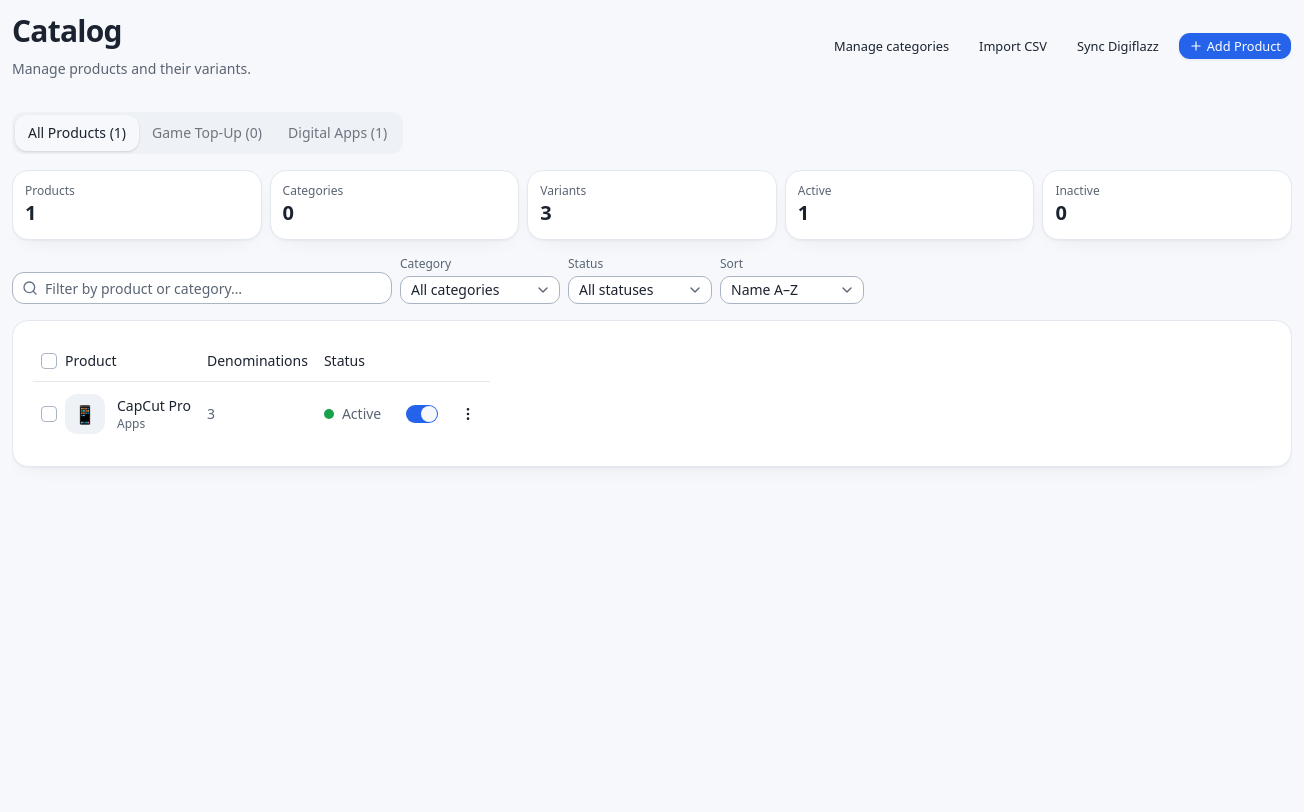
CatalogPage › archives a product from the row's actions menu; it drops out of the default view
Expected: the text "CapCut Pro" is shown, [117,396,191,416]
Click the button named "actions for capcut pro".
click(468, 414)  # box [454,400,482,428]
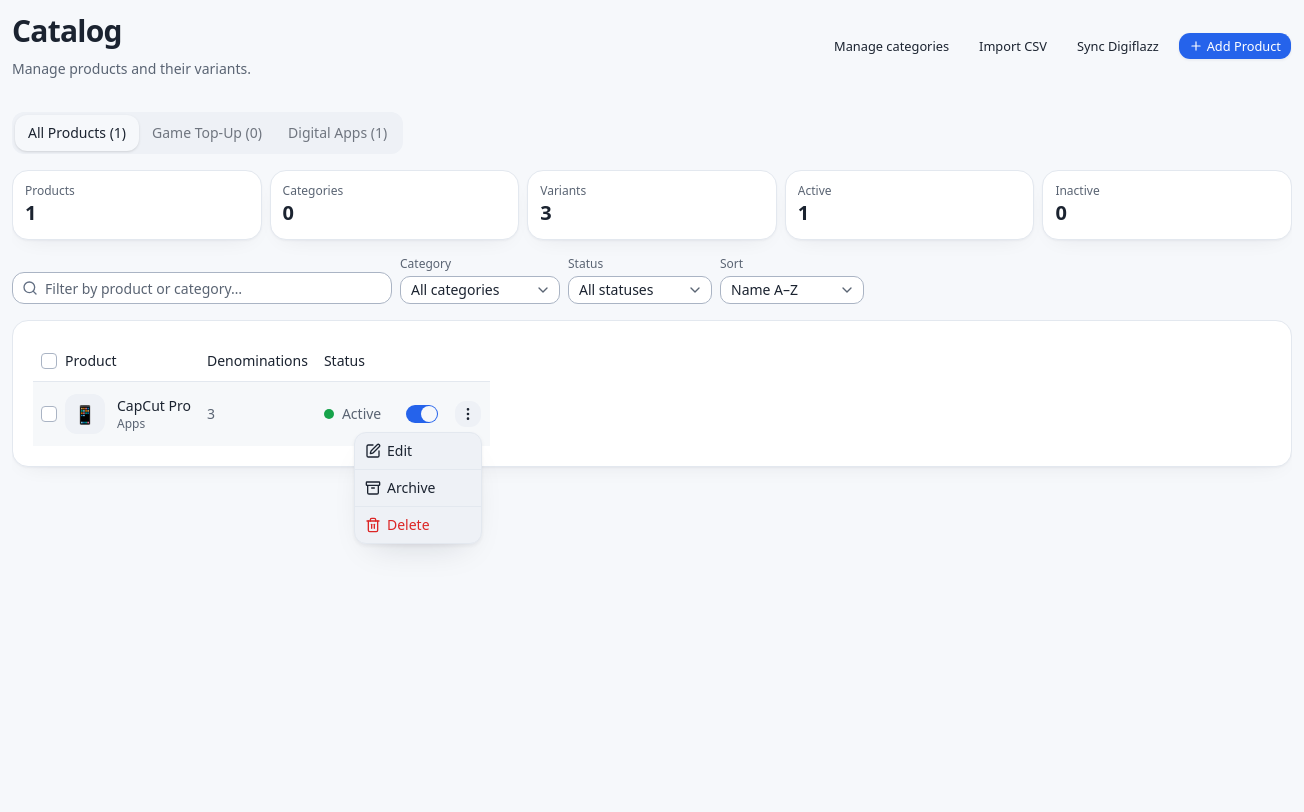
Click the menu item "Archive".
click(400, 488)  # box [365,478,436,497]
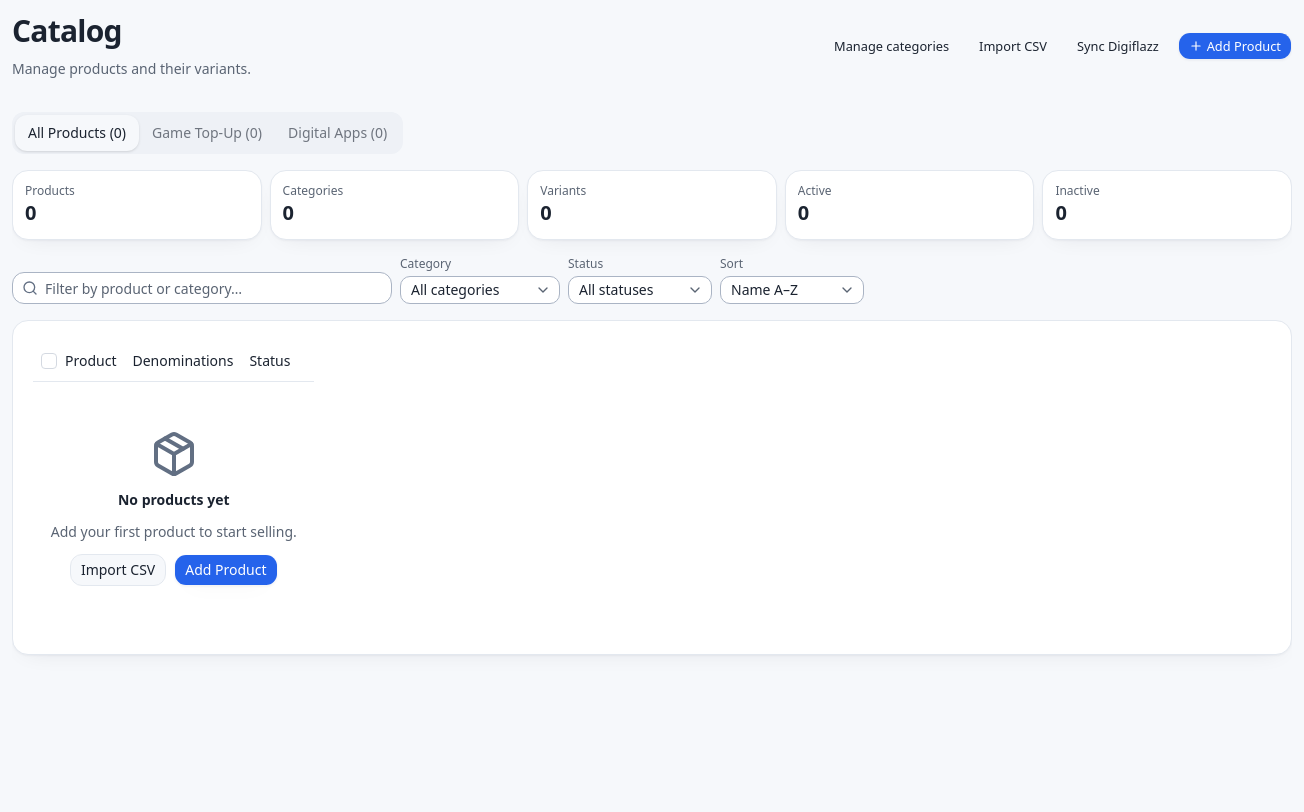
Now the text "CapCut Pro" is gone
